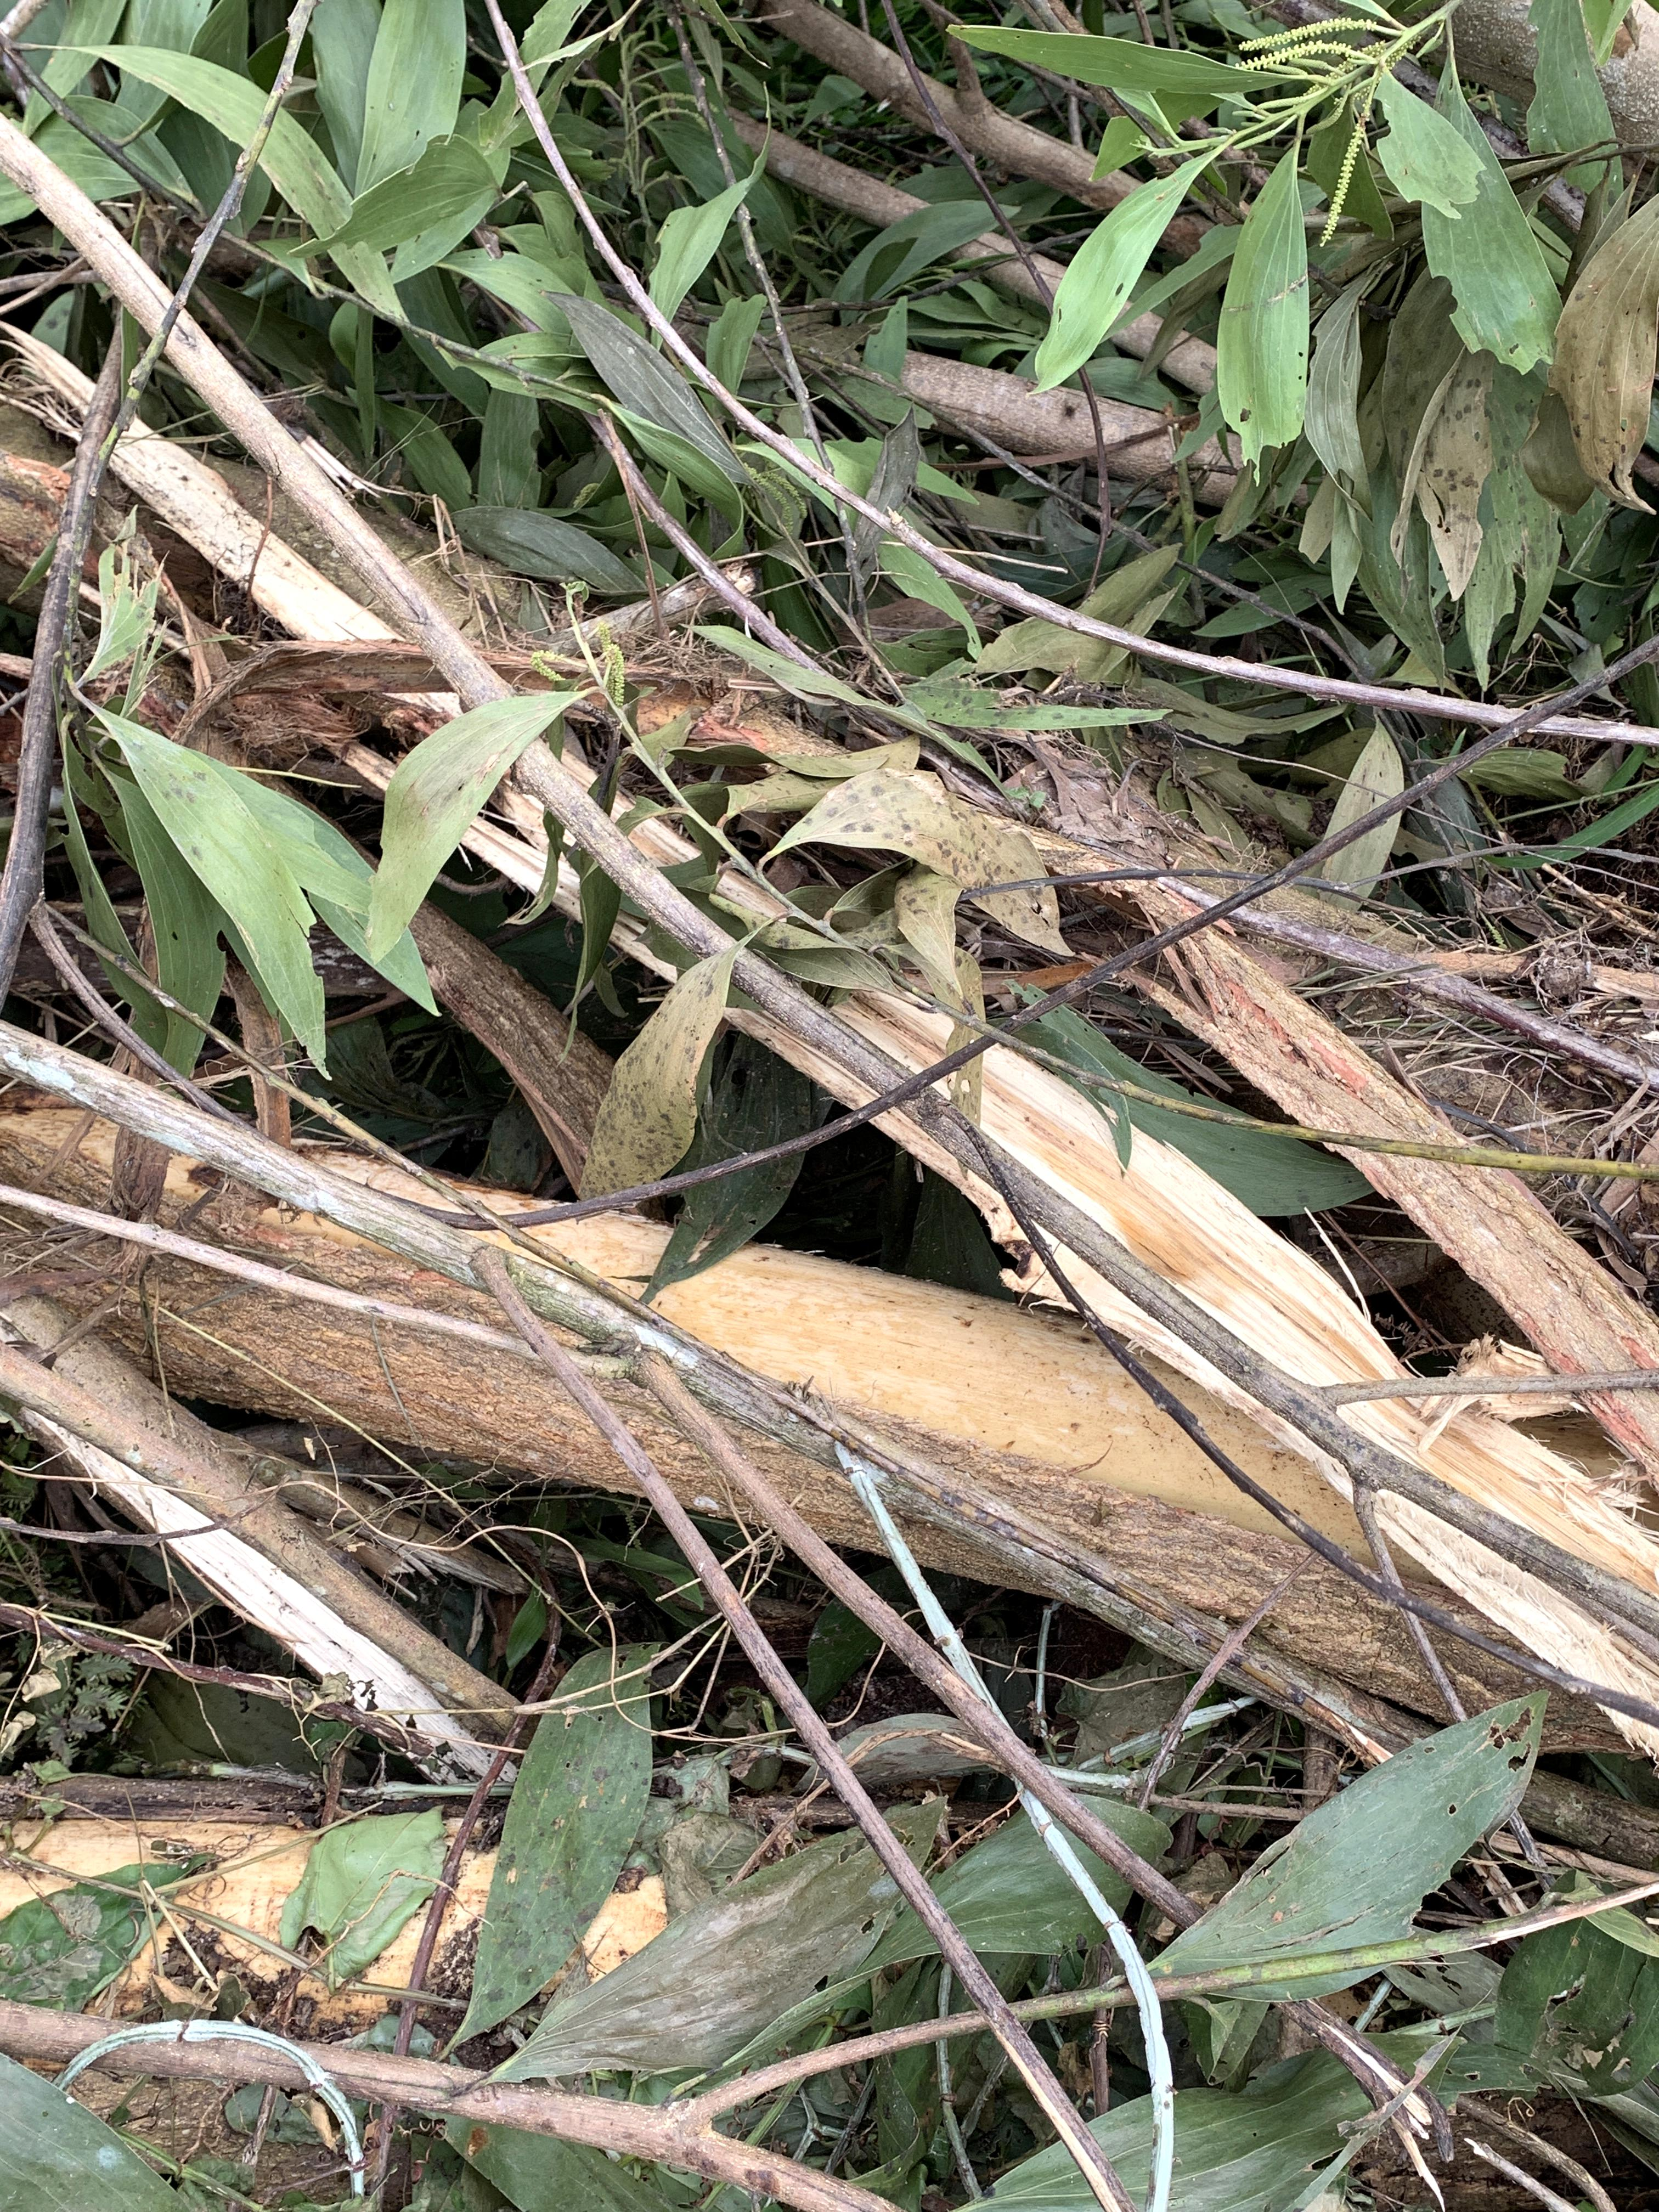Mammals Attack: (0, 1061, 1659, 1770), (0, 1735, 859, 2107)
